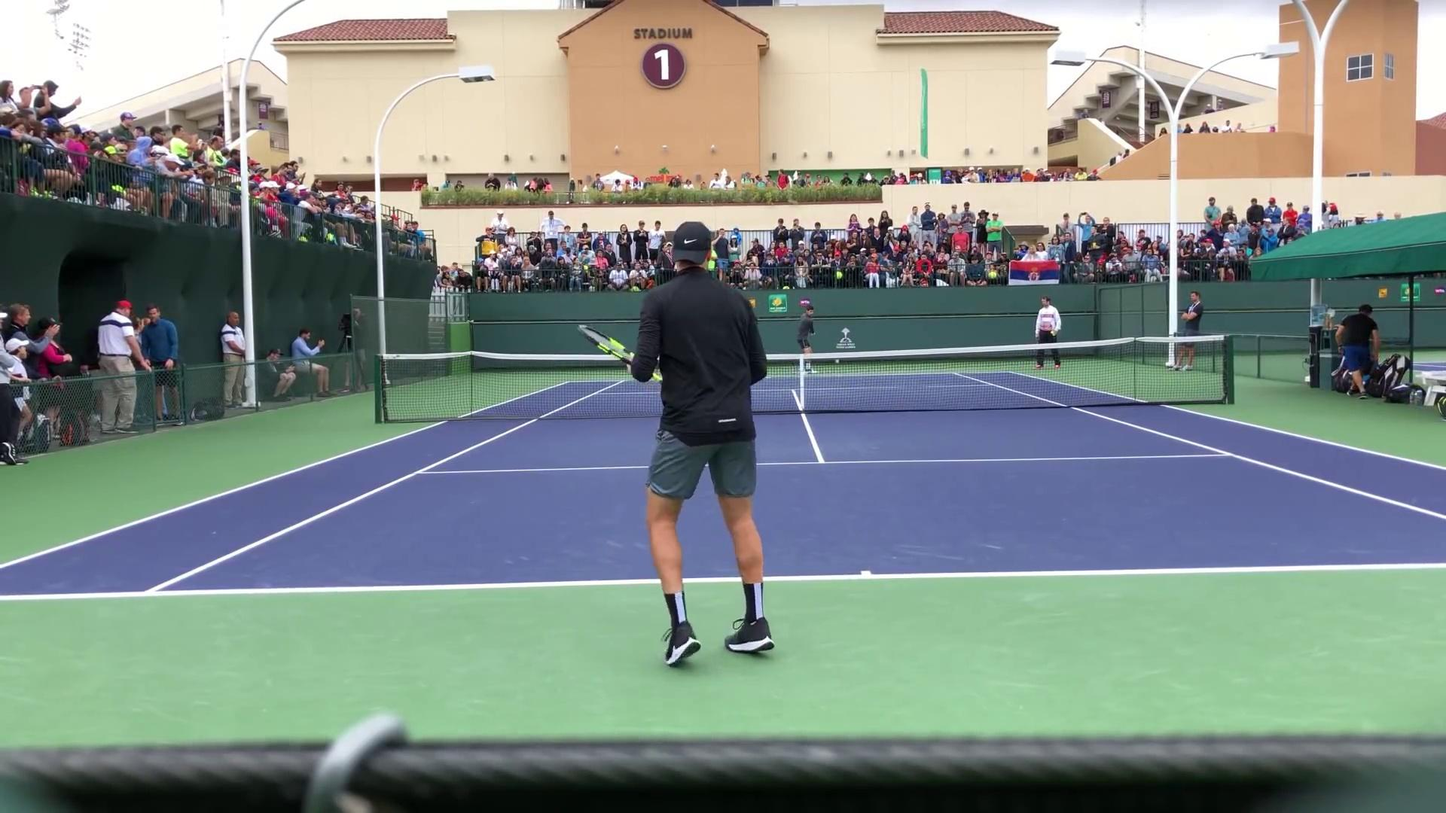ball: (833, 357, 840, 365)
